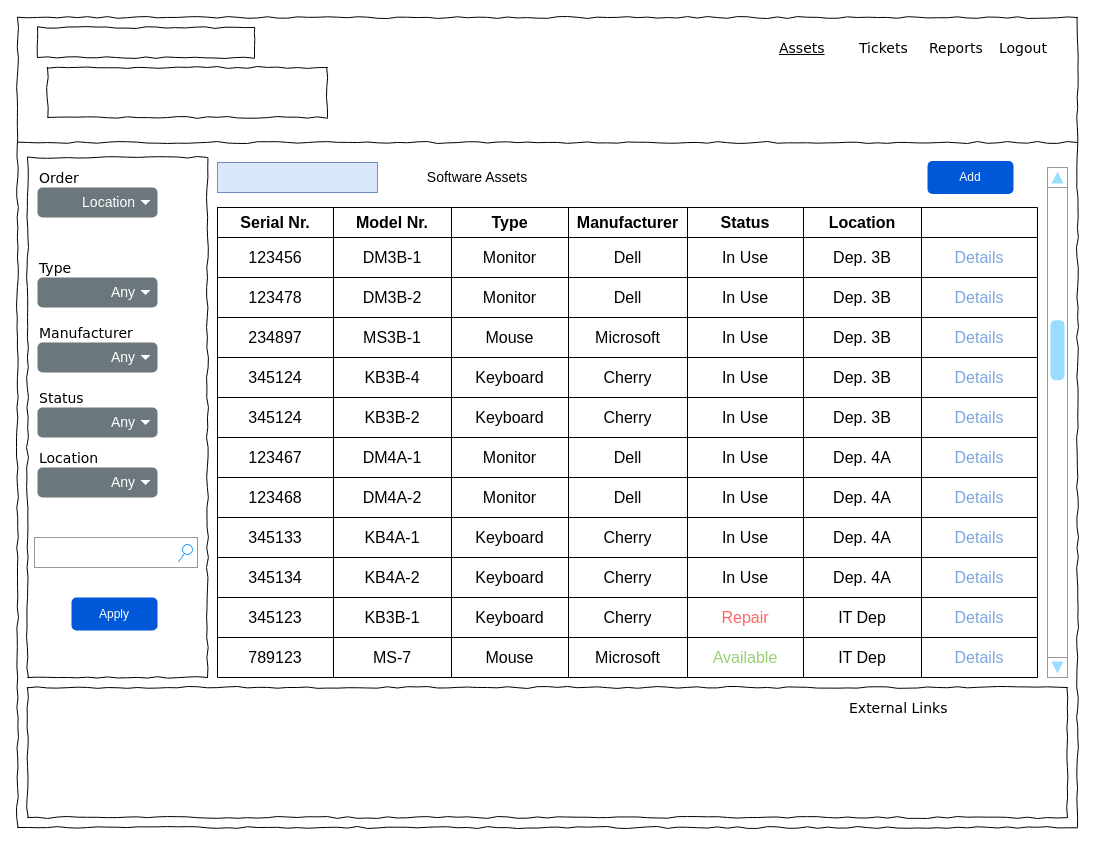
The diagram is 1095 pixels wide and 845 high, and some of its shapes have lost their labels. The centre of each missing label's shape, as x and y in pixels:
"Company Name" belongs at (x=145, y=42).
"Hardware Assets" belongs at (x=297, y=177).
"IT Asset Tracking" belongs at (x=187, y=92).
"Search" belongs at (x=116, y=552).
